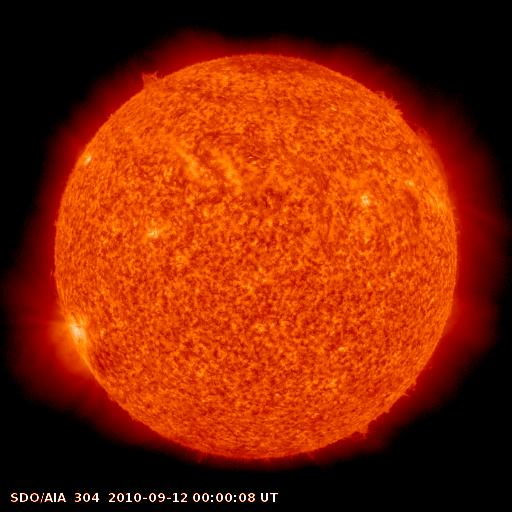prominence: (413, 119, 455, 181), (364, 77, 404, 121), (125, 60, 169, 98)
